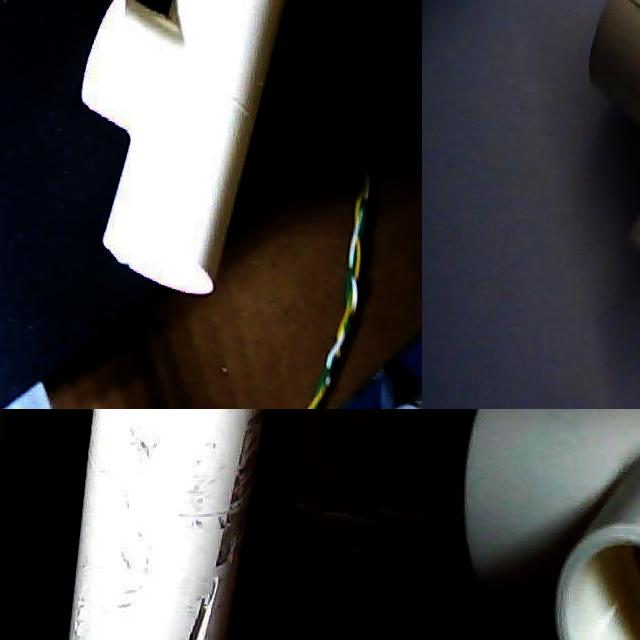Defective: (224, 409, 257, 586), (168, 533, 219, 640), (64, 560, 89, 640)
T Joint: (79, 0, 288, 299), (67, 409, 267, 640), (462, 409, 640, 640)
